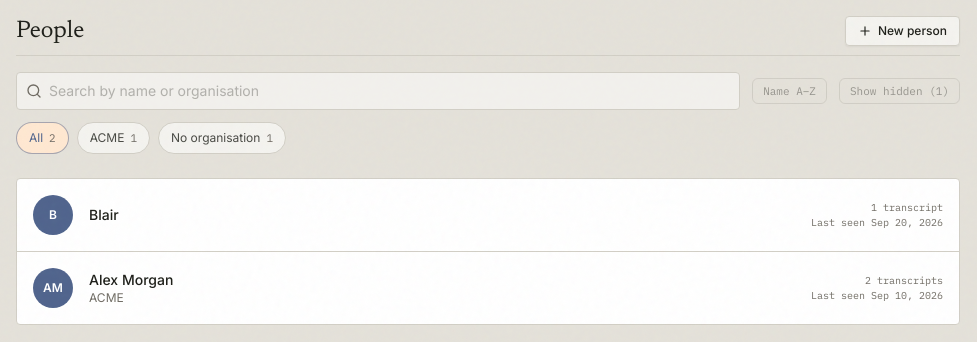
Test: Clear search and filter brings everyone back
The image size is (977, 342).
Step 1. Type "nobody" into the field named "Search people" → {"x": 378, "y": 91}, box [16,72,740,110]
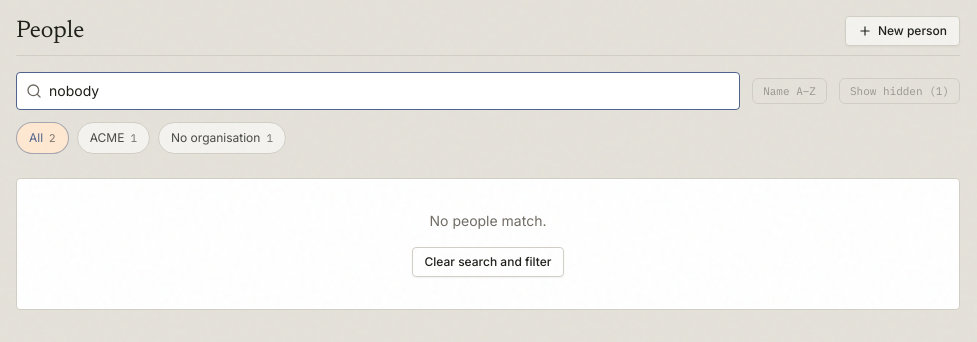
Check: the text "No people match." is shown, box [430,212,546,229]
Step 2. Click the button "Clear search and filter" → {"x": 488, "y": 262}, box [412,247,564,277]
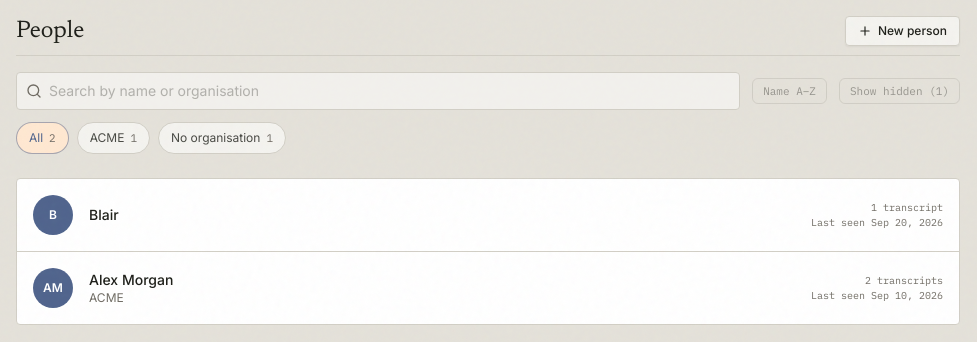
Check: the field named "Search people" is empty, box [16,72,740,110]
